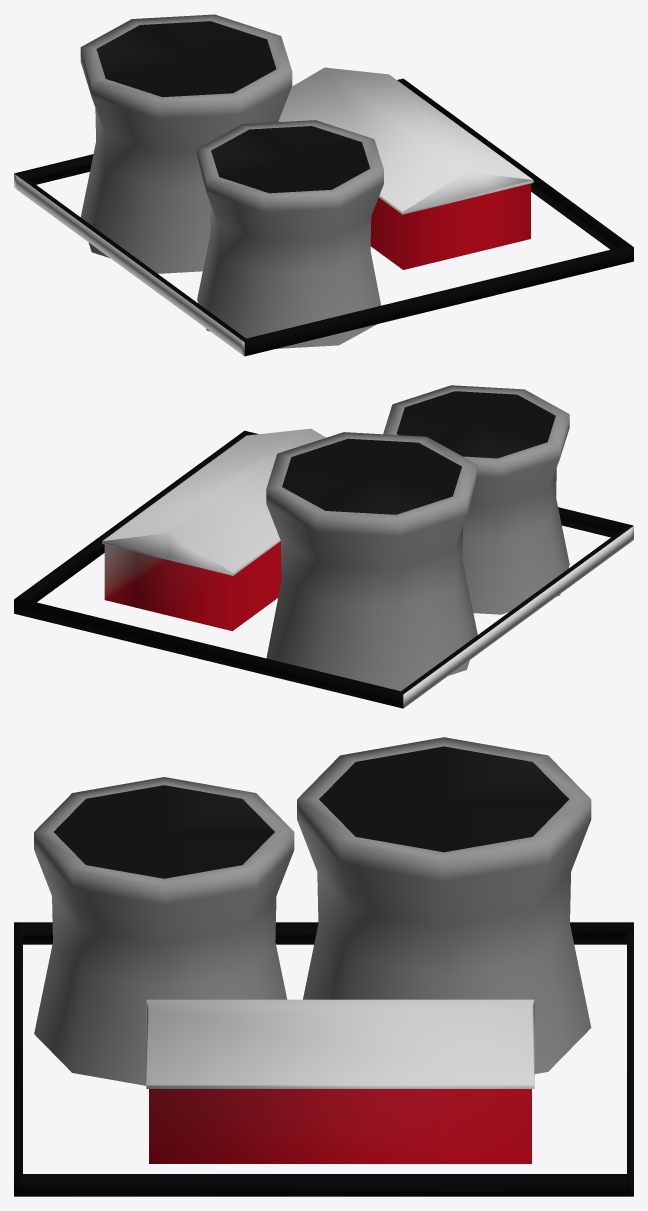
Rendered from block2.fbx.
3 views of the same model, one above another, from view 1: azimuth 30°, elevation 25°; view 2: azimuth 150°, elevation 25°; view 3: azimuth 270°, elevation 25° (orthographic). The views are drawn at different scales.
Parts seen in each view (by area): view 1: Cube_001.001, Cube_001; view 2: Cube_001.001, Cube_001; view 3: Cube_001.001, Cube_001.
Boxes of the visible parts, x1=… form: Cube_001.001: x1=80, y1=14, x2=383, y2=348; Cube_001: x1=14, y1=67, x2=633, y2=356; Cube_001.001: x1=266, y1=385, x2=569, y2=691; Cube_001: x1=14, y1=428, x2=633, y2=708; Cube_001.001: x1=34, y1=737, x2=591, y2=1085; Cube_001: x1=14, y1=922, x2=633, y2=1196.
Size of the model in its own units: 7.86 by 3.37 by 8.06.
